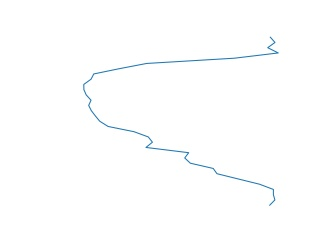mouthBar: (78, 36, 281, 209)
